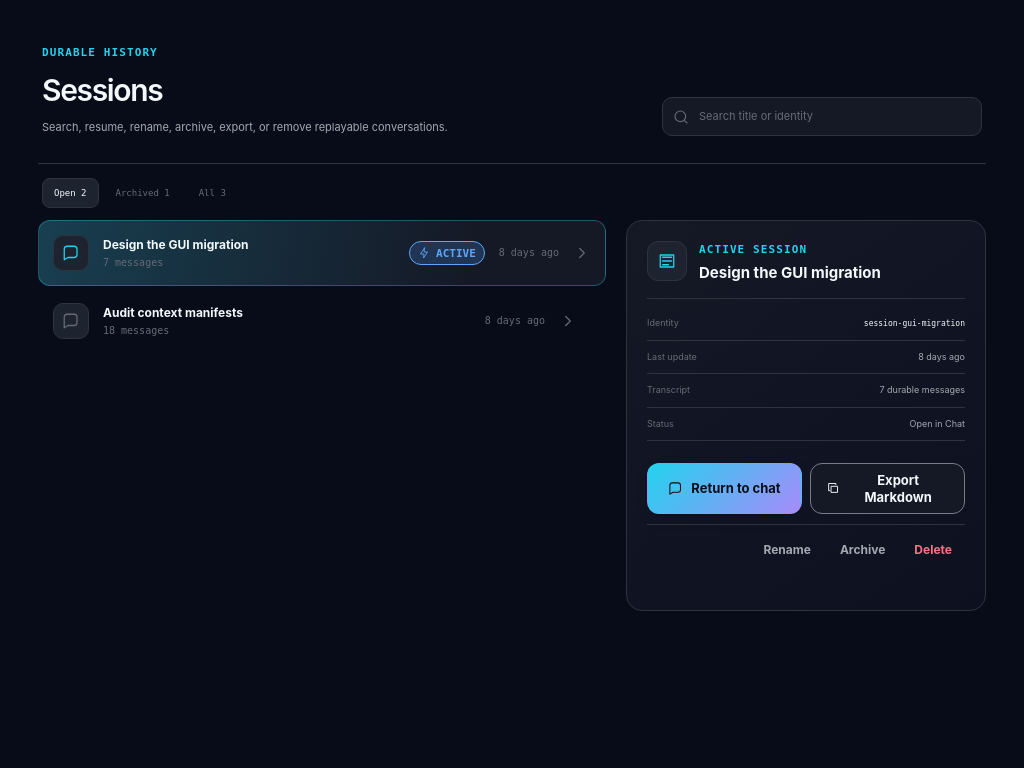
Test: SessionsWorkspace › waits for export settlement before opening a destructive review
Click the button "Export Markdown" at (888, 489), box left=810, top=463, right=965, bottom=514
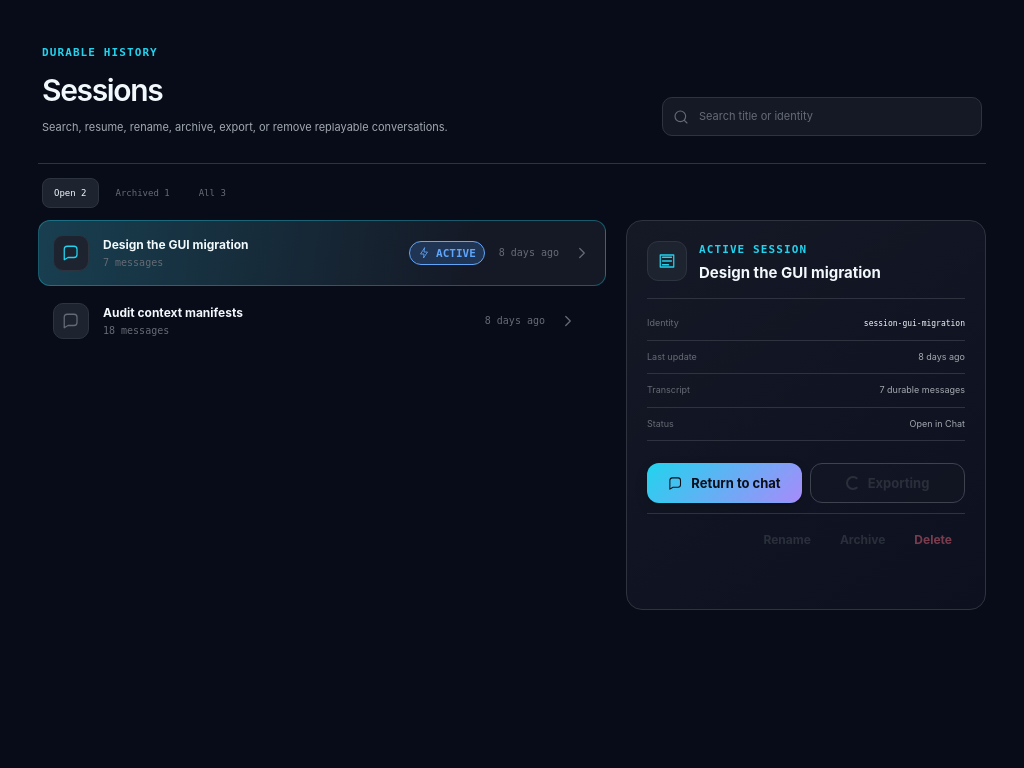
Check: the button "Delete" is disabled
Click the button "Delete" at (933, 539), box left=901, top=523, right=965, bottom=555
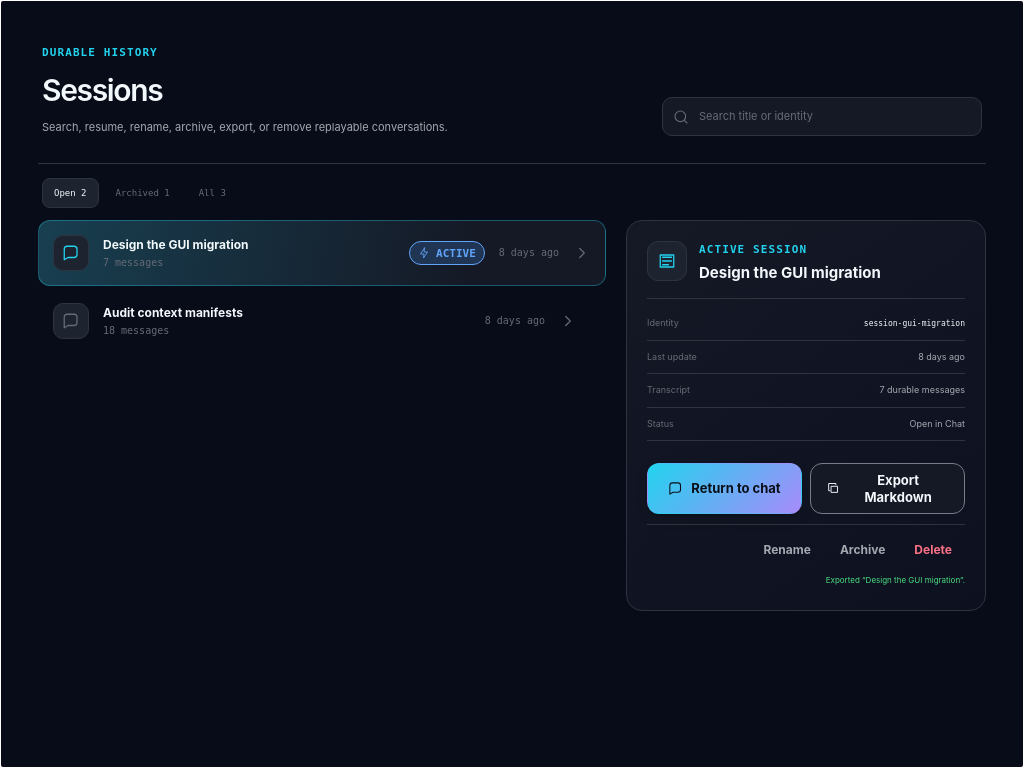
Click the button "Delete" at (933, 550), box left=901, top=534, right=965, bottom=566
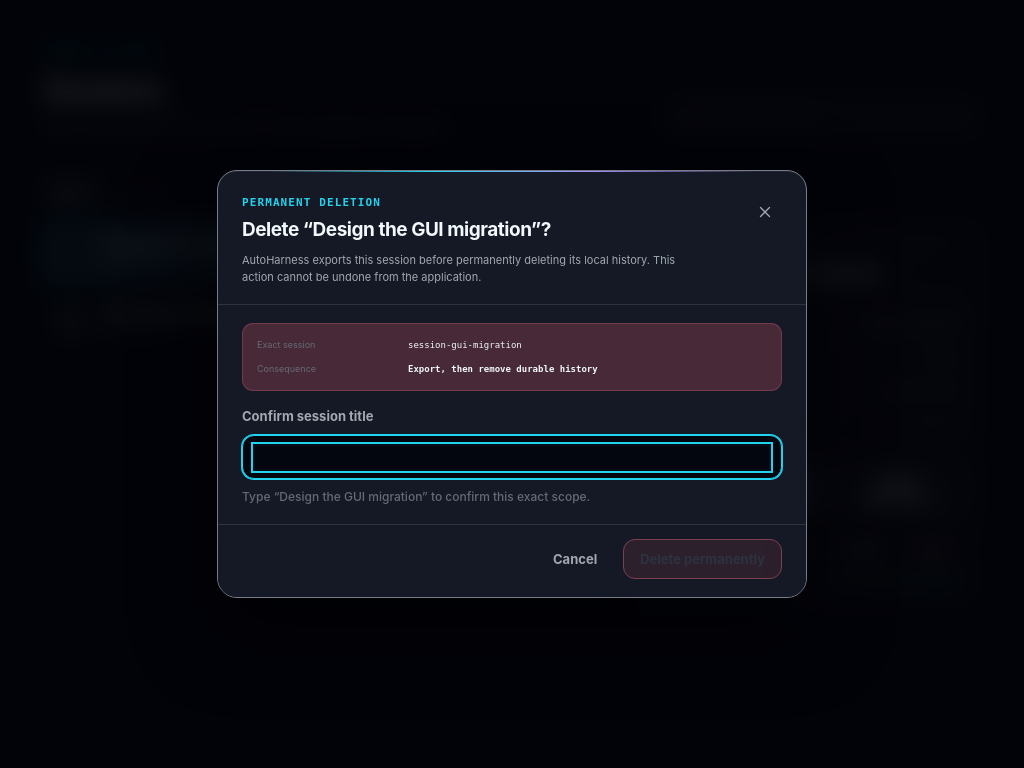
Type "Design the GUI migration" into the field labelled "Confirm session title" at (512, 457), box left=255, top=446, right=769, bottom=469
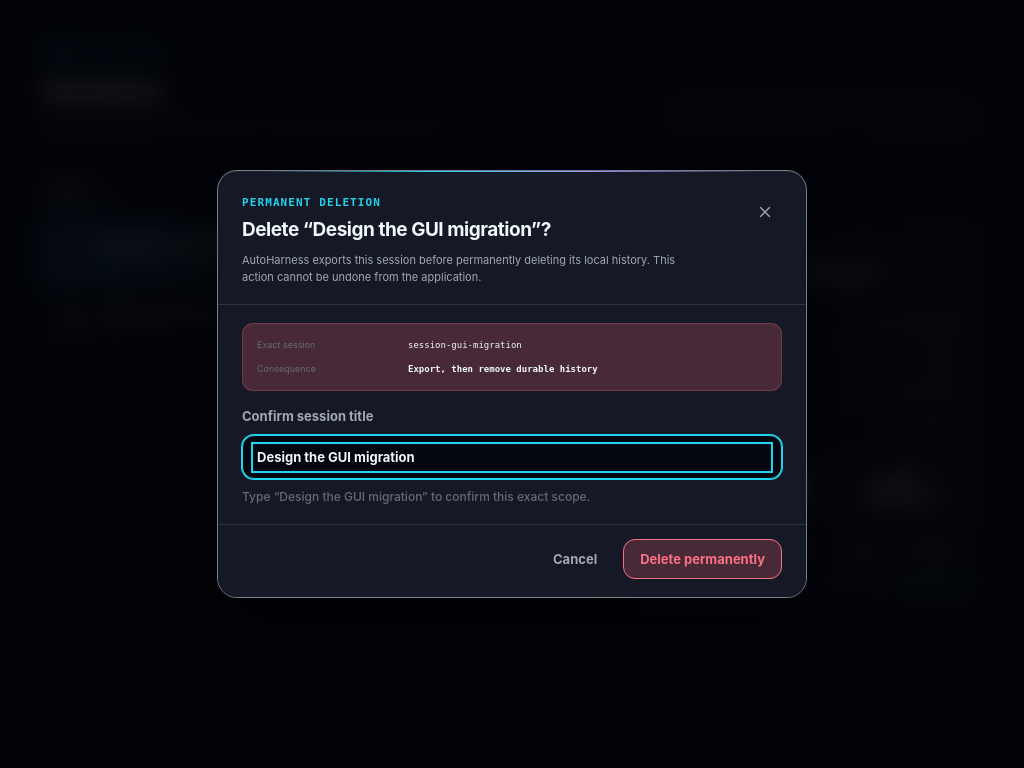
Check: the button "Delete permanently" is enabled, box left=623, top=539, right=782, bottom=579
